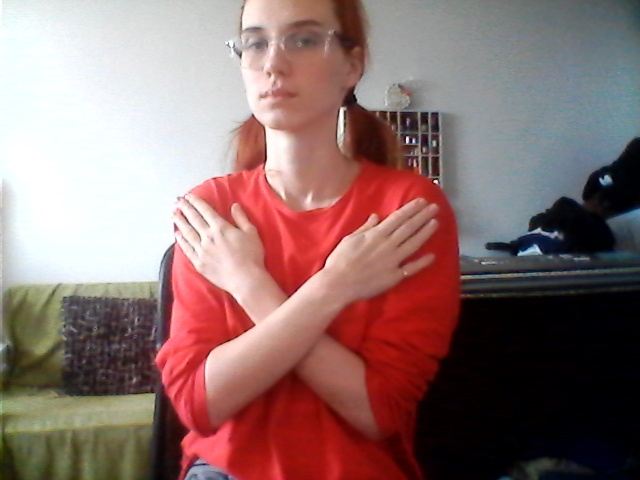z: (167, 189, 442, 447)
